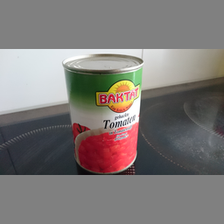tomato_sauce: (62, 53, 144, 174)
